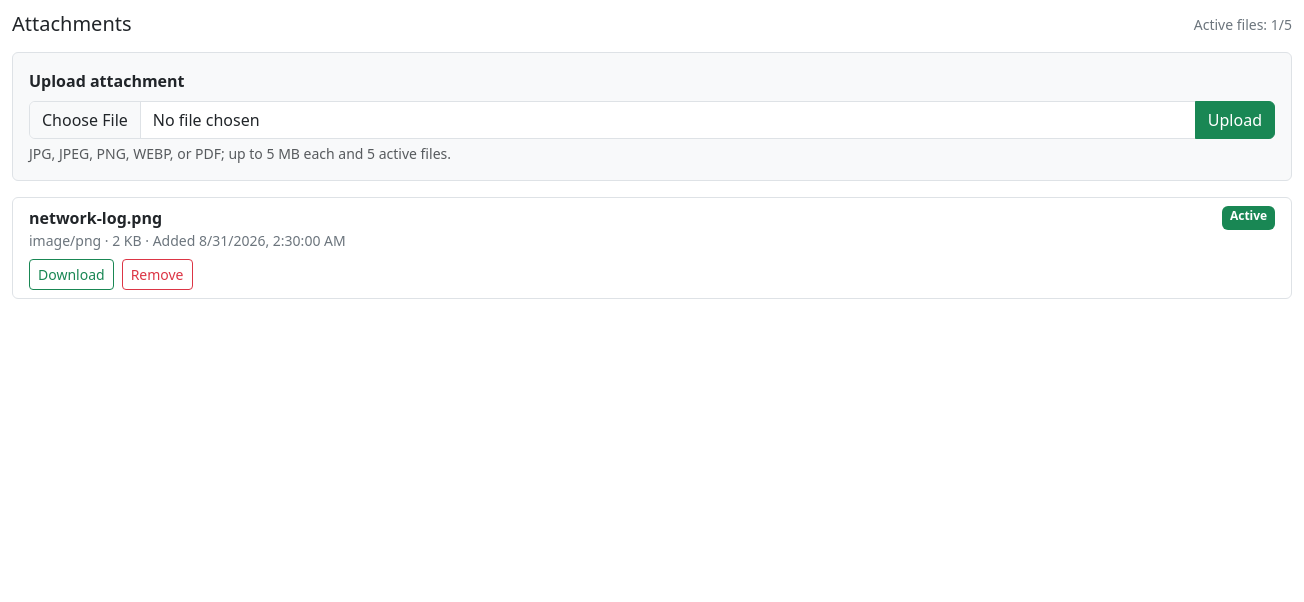
Scenario: Attachment Section UI › requires a reason before confirming soft removal
The image size is (1304, 602).
Click the button "Remove": (157, 274) [122,259,192,290]
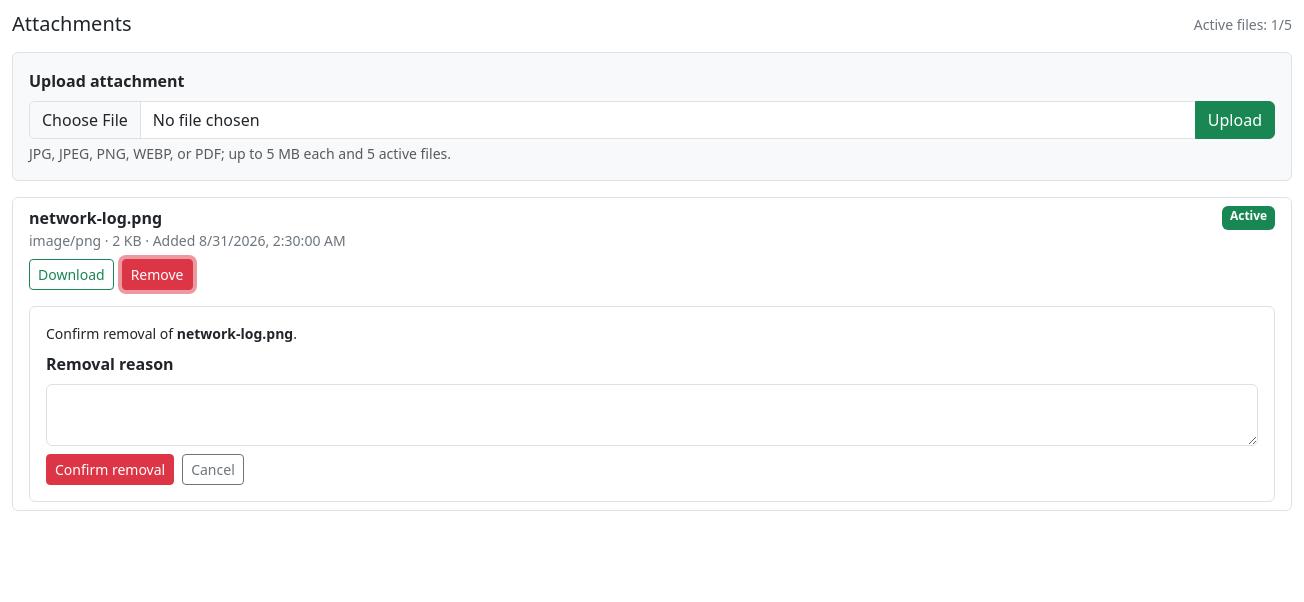
Click the button "Confirm removal": (110, 470) [46,454,174,485]
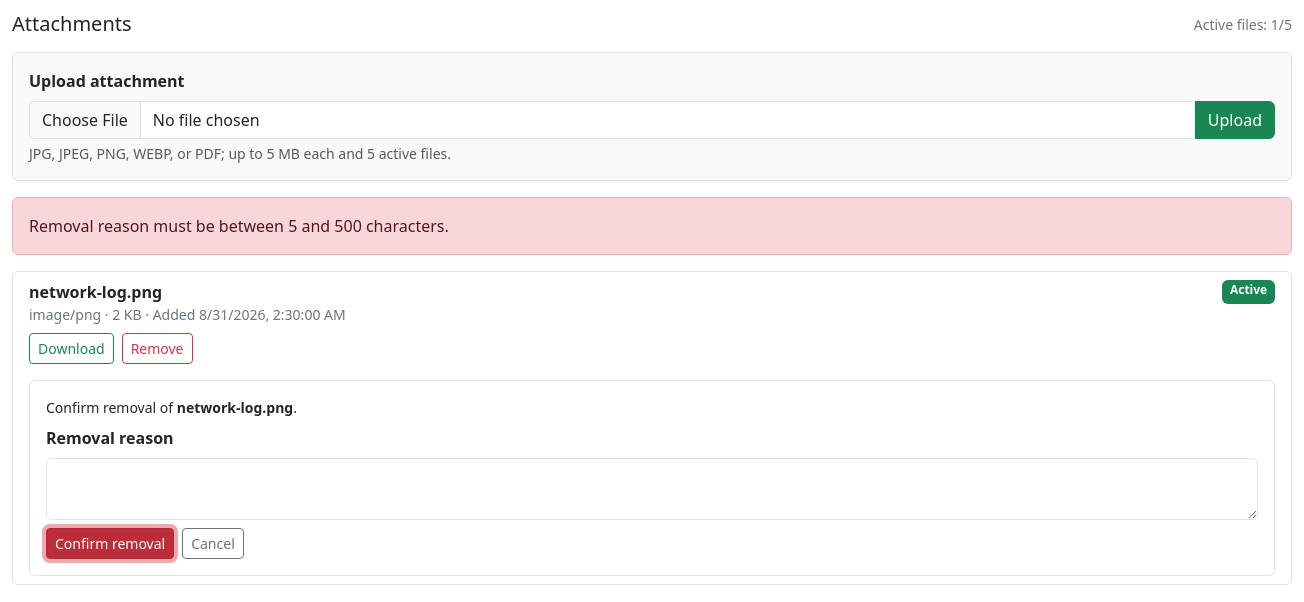
Expected: the message reads "Removal reason must be between 5 and 500 characters.", [29,215,449,237]
In the text box labelled "Removal reason": (652, 489) [46,458,1258,520], type "No longer needed"
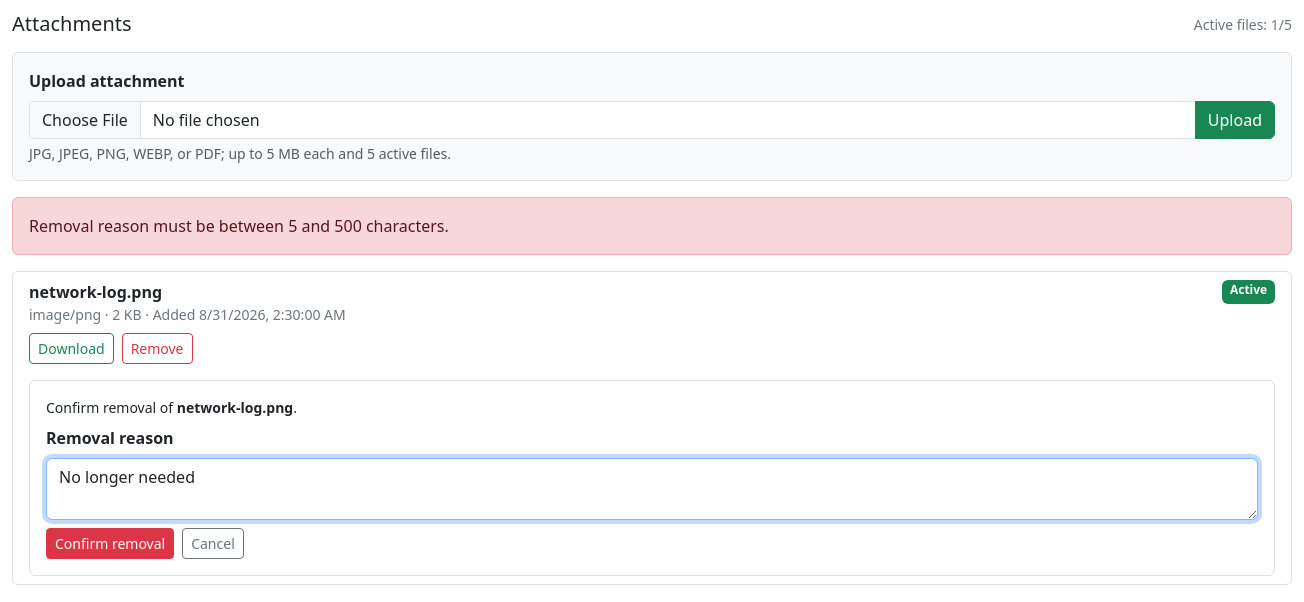
Click the button "Confirm removal": (110, 544) [46,528,174,559]
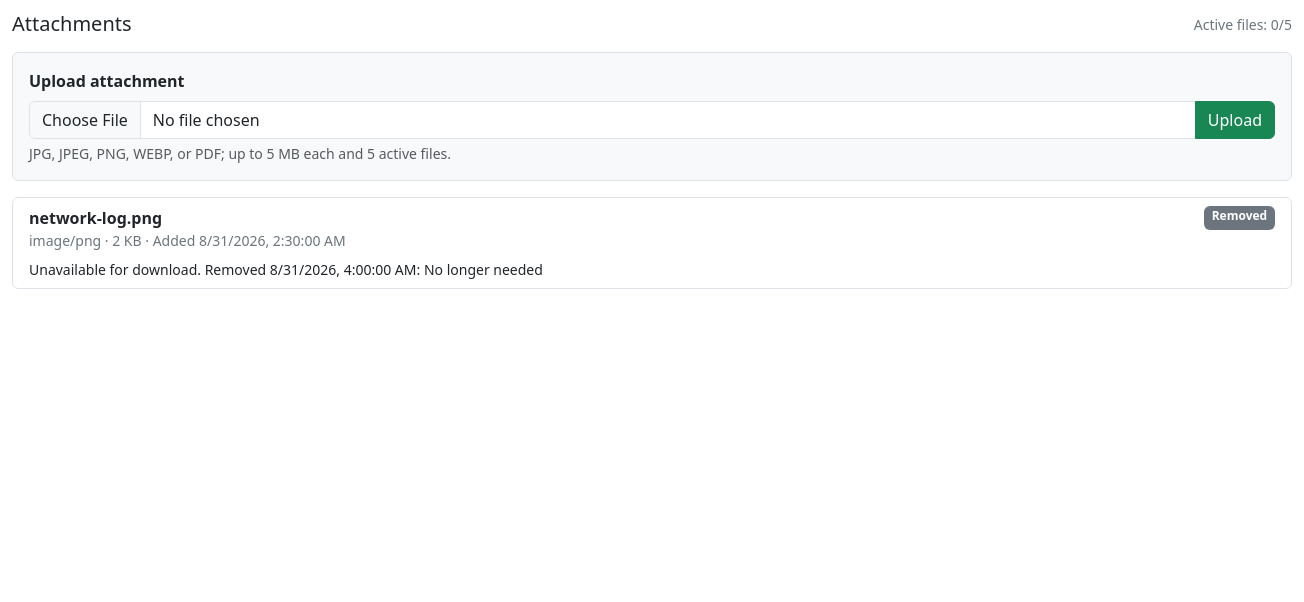
Expected: the text "Unavailable for download. Removed 8/31/2026, 4:00:00 AM: No longer needed" is shown, [29,260,543,279]
